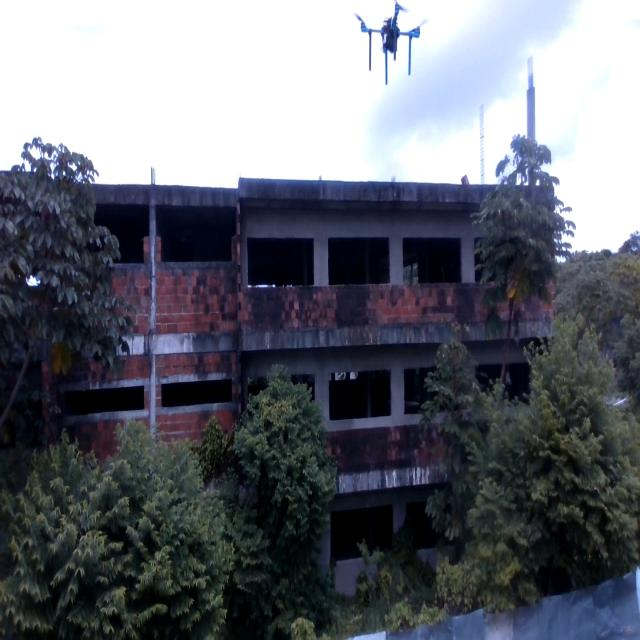-uav-: (348, 0, 434, 93)
